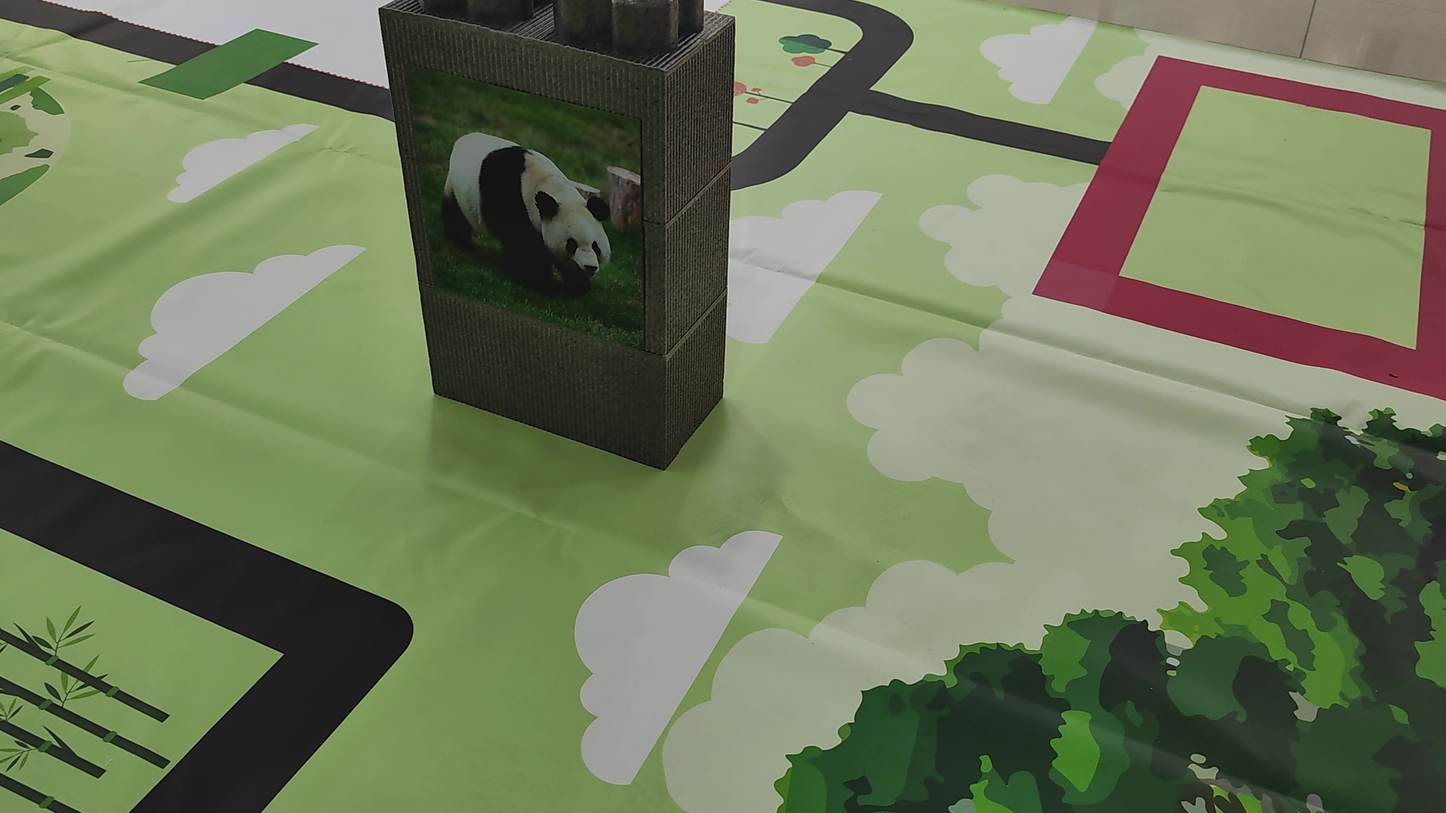panda: (428, 123, 639, 324)
